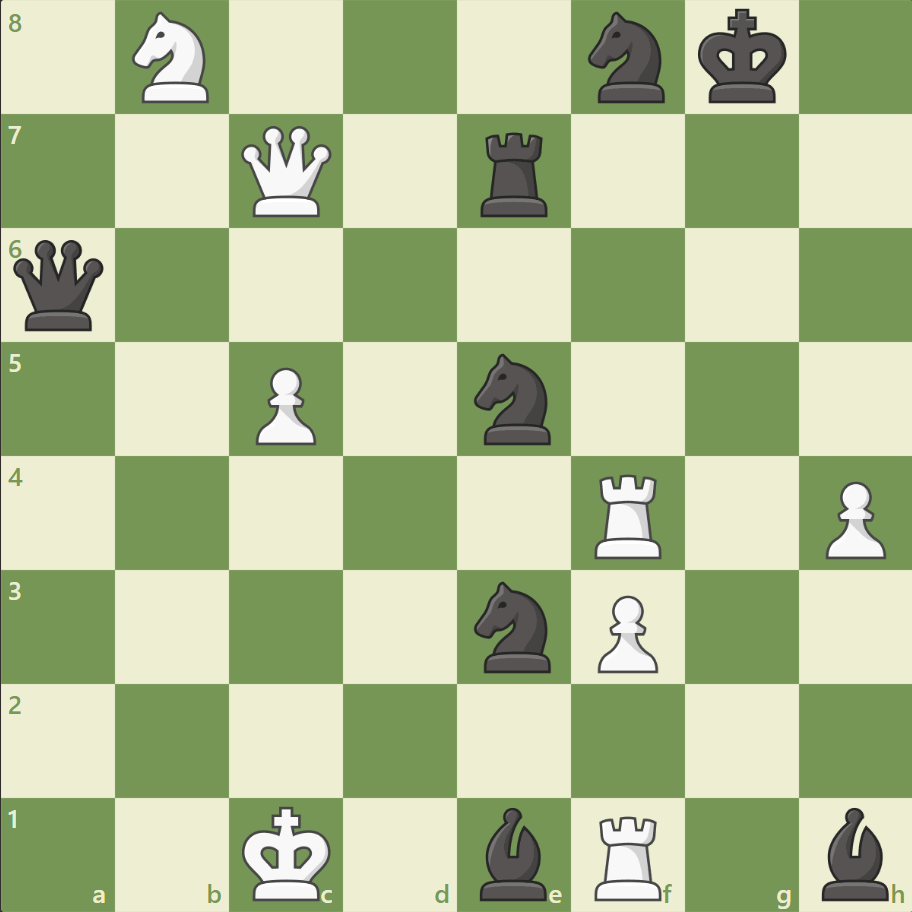K: (238, 798, 338, 906)
N: (124, 7, 222, 110)
P: (247, 359, 322, 450), (815, 473, 889, 564), (588, 586, 662, 677)
Q: (237, 122, 336, 222)
R: (587, 806, 670, 904), (587, 466, 670, 563)
b: (471, 801, 555, 904), (812, 801, 896, 904)
k: (692, 4, 792, 112)
n: (579, 7, 676, 110), (465, 348, 562, 450), (465, 575, 562, 677)
q: (10, 236, 109, 335)
r: (473, 125, 556, 222)
